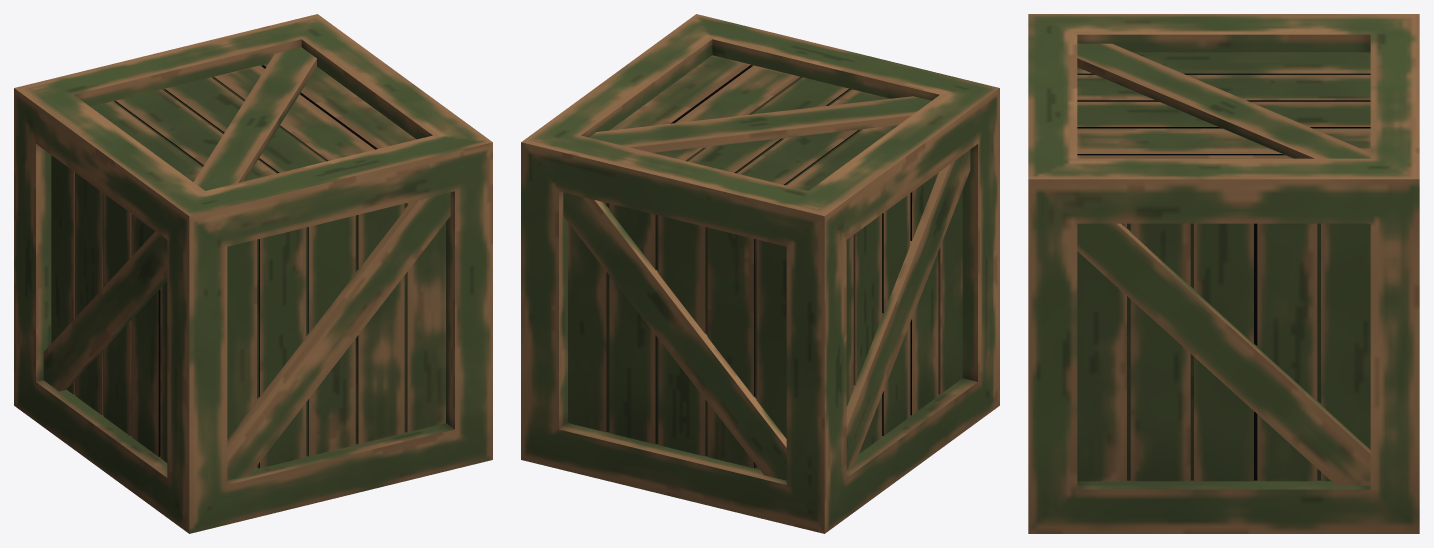
Rendered from SM_PersonalChest.fbx.
The picture shows the model from 3 angles, left to right: view 1: azimuth 30°, elevation 25°; view 2: azimuth 150°, elevation 25°; view 3: azimuth 270°, elevation 25°; orthographic projection. The views are drawn at different scales.
Parts seen in each view (by area): view 1: SM_PersonalChest; view 2: SM_PersonalChest; view 3: SM_PersonalChest.
Boxes of the visible parts, left/top/right/bottom form: SM_PersonalChest: left=14, top=14, right=492, bottom=533; SM_PersonalChest: left=521, top=14, right=999, bottom=533; SM_PersonalChest: left=1028, top=14, right=1419, bottom=533.
Bounding box in the file's own units: 74 × 74 × 74.
Materials: 1 (1 with a texture image).
